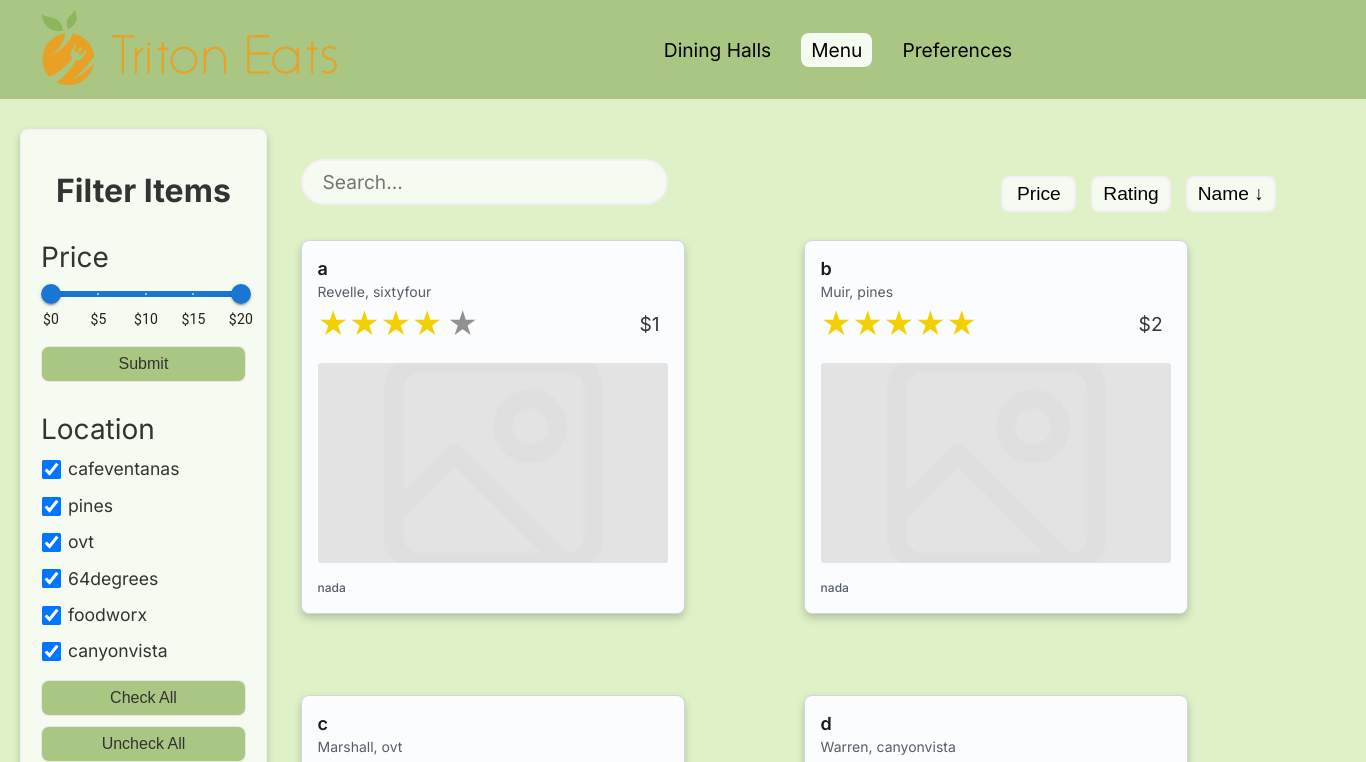
Test: Menu Searching › Search a works
This screenshot has width=1366, height=762.
Expected: the element with test id "dish-0" is shown, [300,240,684,614]
// change content in searchBar
In the field with placeholder "Search...": (484, 182) [300,159,668,205], type "a"
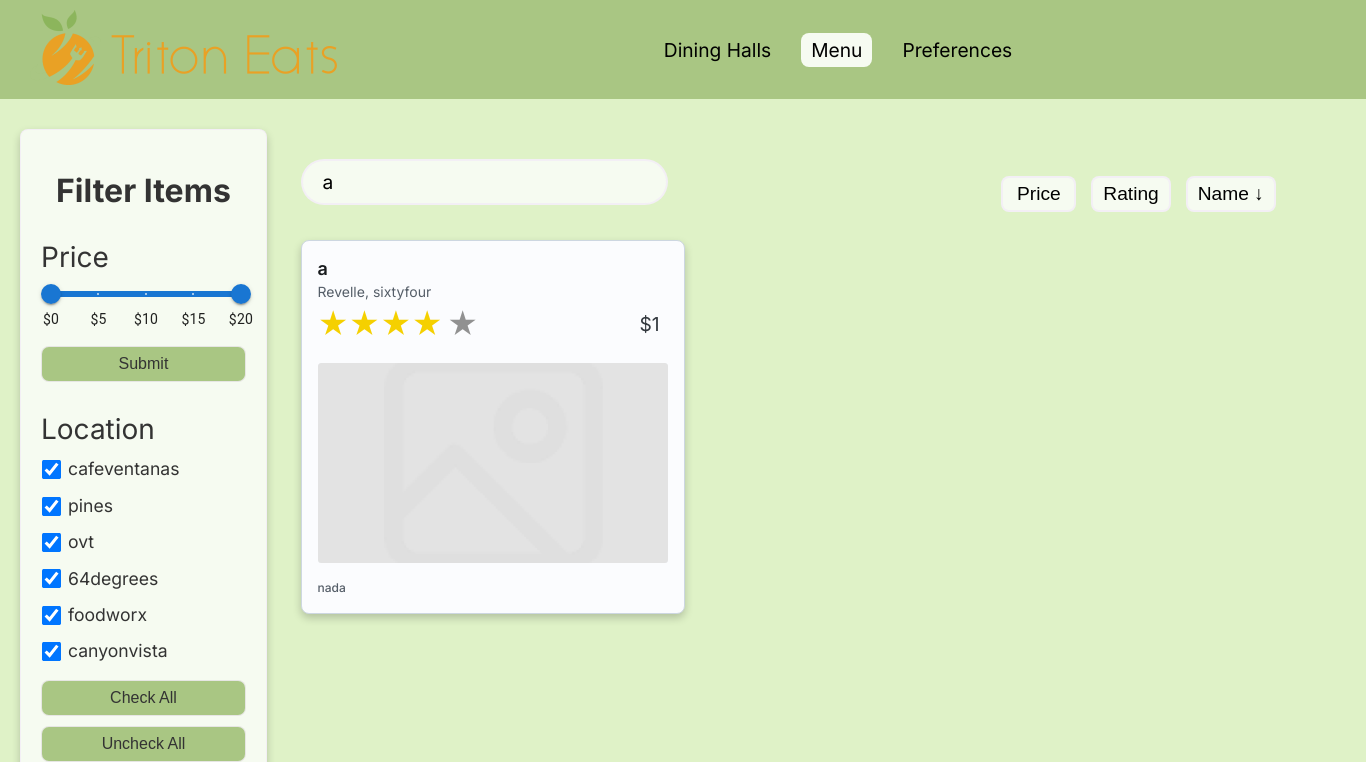
Expected: the element with test id "dish-0" is shown, [300,240,684,614]
Now the element with test id "dish-1" is gone
